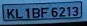numberplate: (2, 1, 81, 21)
